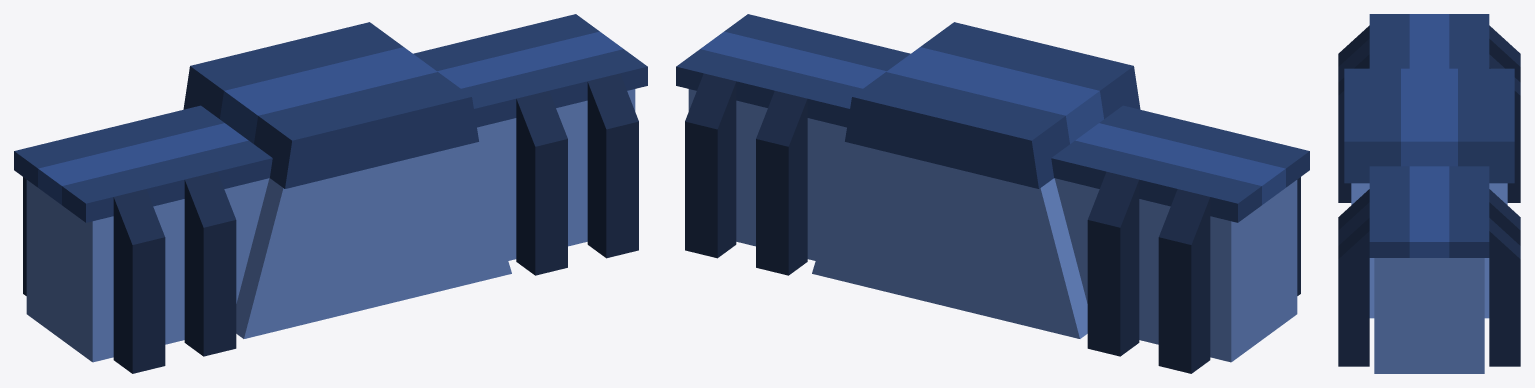
File: Bld_6.fbx
The picture shows the model from 3 angles, left to right: view 1: azimuth 30°, elevation 25°; view 2: azimuth 150°, elevation 25°; view 3: azimuth 270°, elevation 25°; orthographic projection. The views are drawn at different scales.
Visible parts, largest first — view 1: Cube.013; view 2: Cube.013; view 3: Cube.013.
Part boxes in pixels (x1,y1,x2,y2): Cube.013: (14, 14, 647, 373); Cube.013: (676, 14, 1309, 373); Cube.013: (1338, 14, 1520, 373).
Size of the model in its own units: 2371 by 769 by 801.
